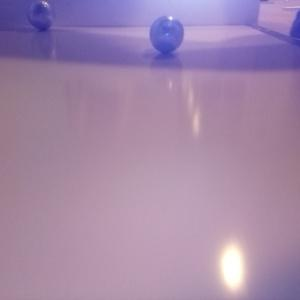alive_ball: (150, 16, 184, 53), (26, 1, 54, 30)
